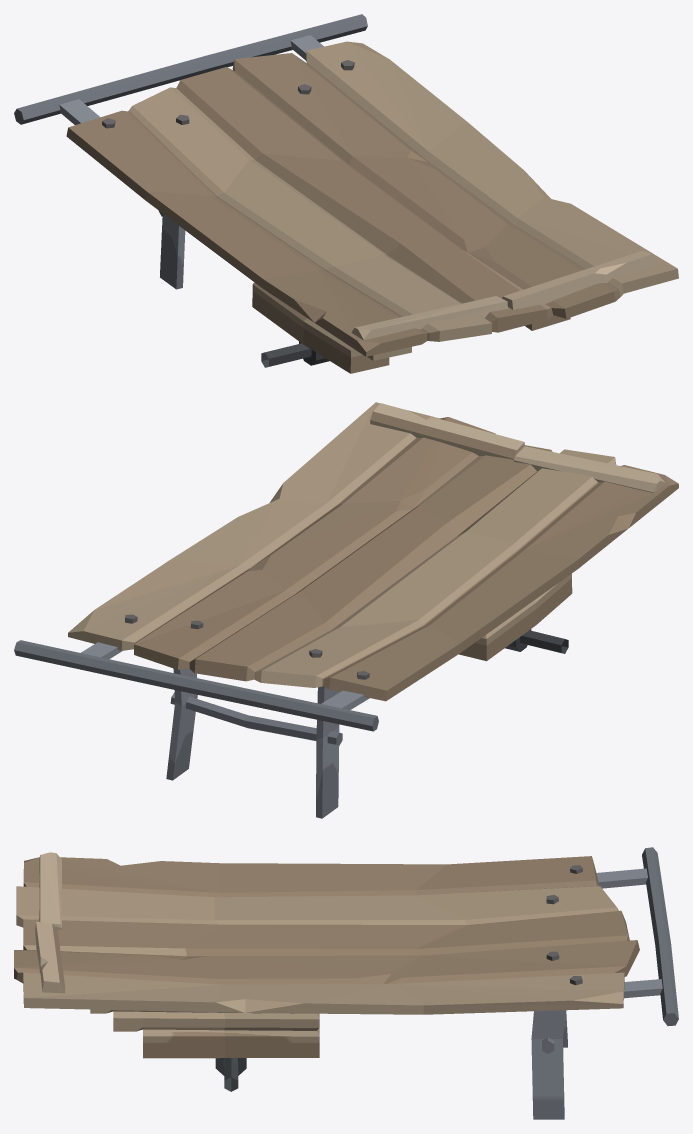
The model's file is SM_Prop_Cart_Wood_01.fbx.
The picture shows the model from 3 angles, top to bottom: view 1: azimuth 30°, elevation 25°; view 2: azimuth 150°, elevation 25°; view 3: azimuth 270°, elevation 25°; orthographic projection. The views are drawn at different scales.
Parts seen in each view (by area): view 1: SM_Prop_Cart_Wood_01; view 2: SM_Prop_Cart_Wood_01; view 3: SM_Prop_Cart_Wood_01.
Boxes of the visible parts, <box> form: SM_Prop_Cart_Wood_01: <box>14,14,678,373</box>; SM_Prop_Cart_Wood_01: <box>14,402,678,818</box>; SM_Prop_Cart_Wood_01: <box>14,847,678,1119</box>.
Size of the model in its own units: 229 by 106 by 389.
